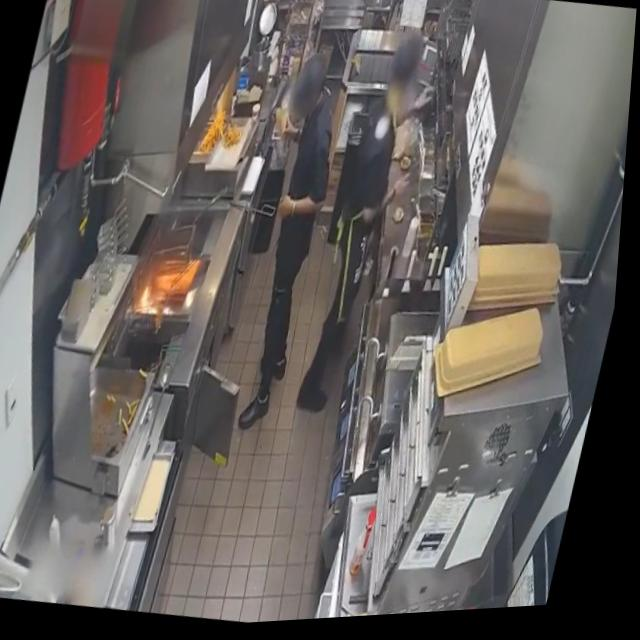fire: (139, 279, 170, 318)
